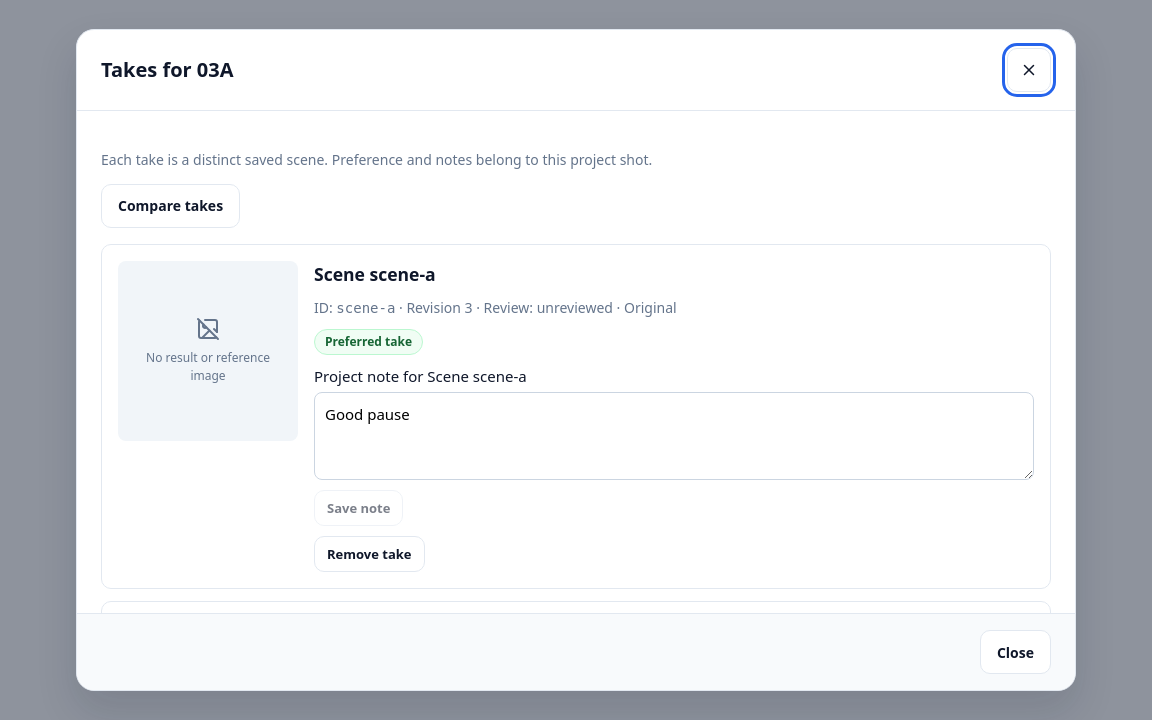
Test: keeps the removal confirmation visible after a failed repository action
Click the button with aria-label "Remove Scene scene-a from shot": [369, 554] box [314,536,424,572]
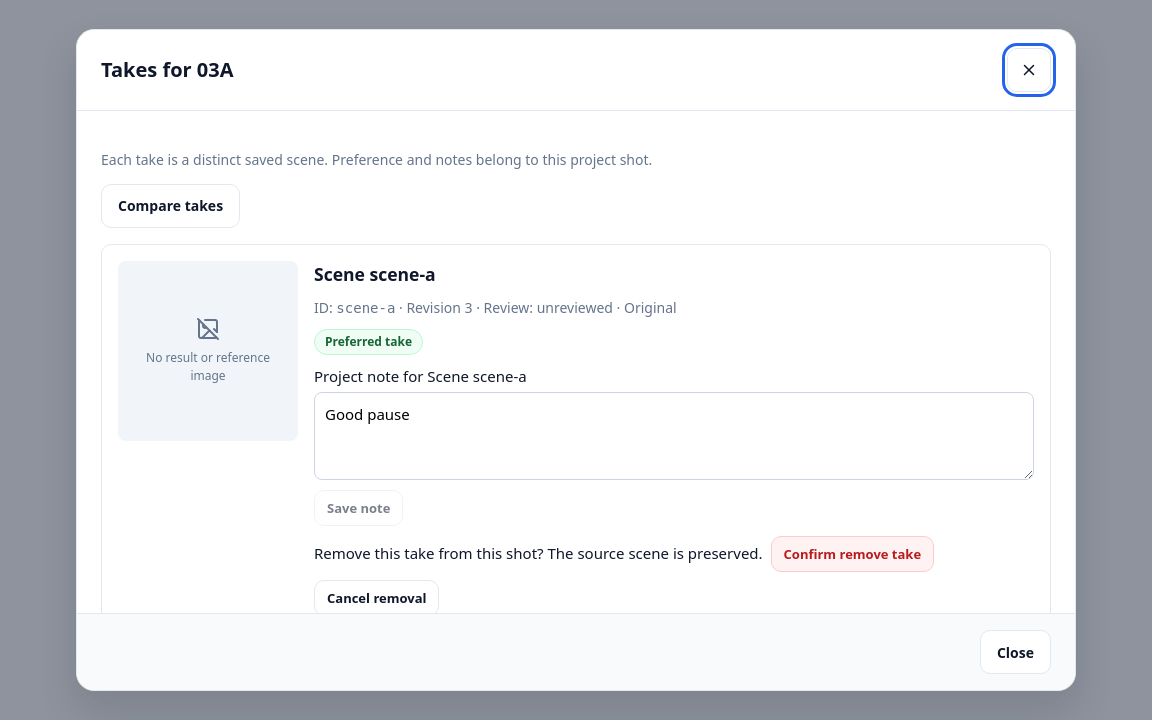
Click the button "Confirm remove take": [852, 554] box [771,536,934,572]
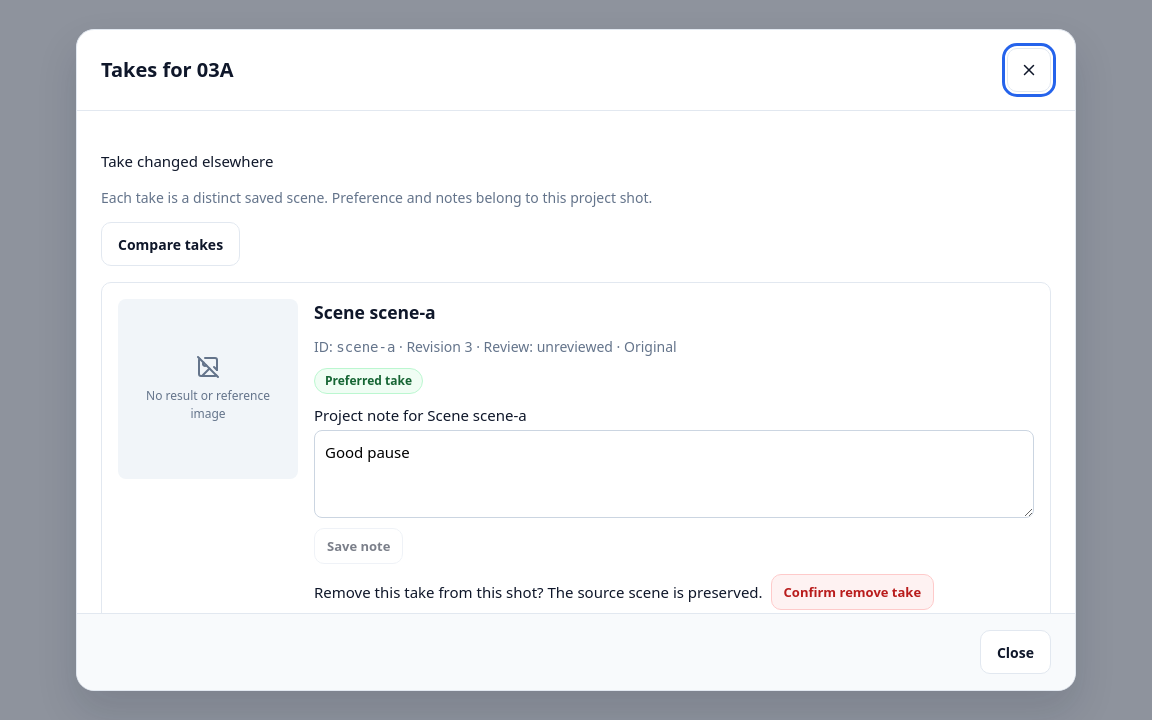
Result: the button "Confirm remove take" is shown at [771,574,934,610]
Result: the message reads "Take changed elsewhere" at [101,151,274,171]
